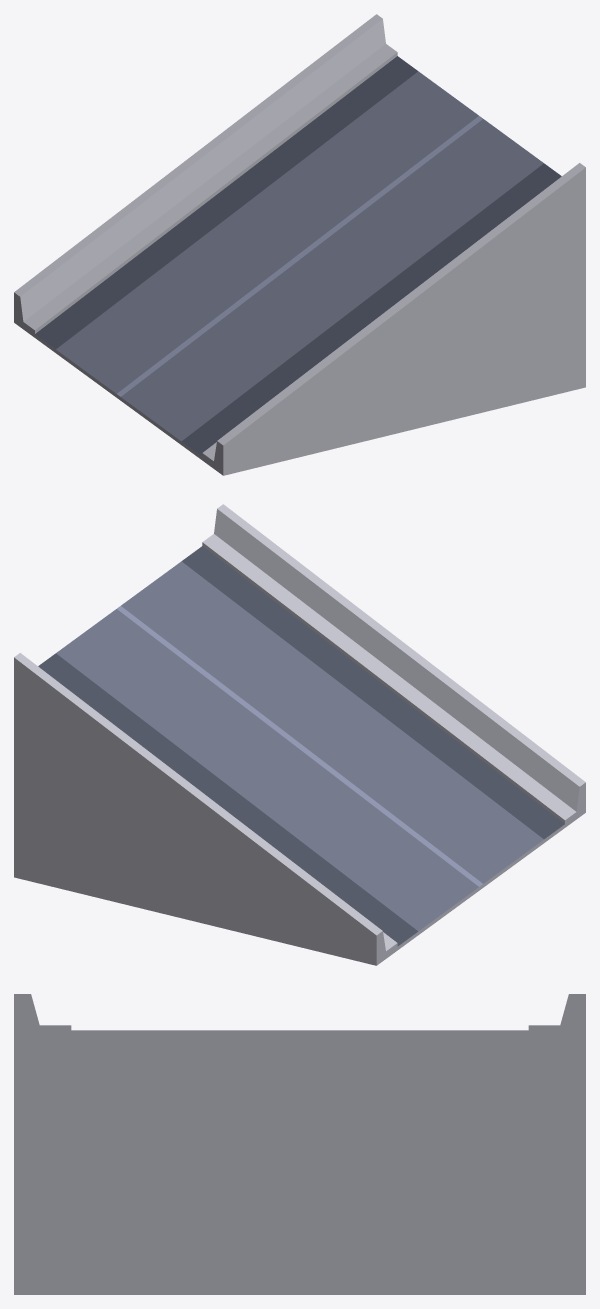
File: road_slantHigh.glb
The picture shows the model from 3 angles, top to bottom: view 1: azimuth 30°, elevation 25°; view 2: azimuth 150°, elevation 25°; view 3: azimuth 270°, elevation 25°; orthographic projection. The views are drawn at different scales.
Parts seen in each view (by area): view 1: road_slantHigh_1abc29, road_slantHigh_b7685a, road_slantHigh_404768, road_slantHigh_9c073d, road_slantHigh_a66a34; view 2: road_slantHigh_1abc29, road_slantHigh_b7685a, road_slantHigh_404768, road_slantHigh_9c073d, road_slantHigh_a66a34; view 3: road_slantHigh_b7685a, road_slantHigh_404768.
Part boxes in pixels (x1=…): road_slantHigh_1abc29: x1=56, y1=71, x2=543, y2=441; road_slantHigh_b7685a: x1=14, y1=44, x2=585, y2=475; road_slantHigh_404768: x1=14, y1=14, x2=585, y2=475; road_slantHigh_9c073d: x1=35, y1=56, x2=561, y2=456; road_slantHigh_a66a34: x1=117, y1=116, x2=482, y2=396; road_slantHigh_1abc29: x1=56, y1=561, x2=543, y2=931; road_slantHigh_b7685a: x1=14, y1=534, x2=585, y2=965; road_slantHigh_404768: x1=14, y1=504, x2=585, y2=965; road_slantHigh_9c073d: x1=38, y1=546, x2=564, y2=946; road_slantHigh_a66a34: x1=117, y1=606, x2=482, y2=886; road_slantHigh_b7685a: x1=14, y1=1025, x2=585, y2=1294; road_slantHigh_404768: x1=14, y1=994, x2=585, y2=1035.
Bounding box in the file's own units: 1 × 0.58 × 1.
